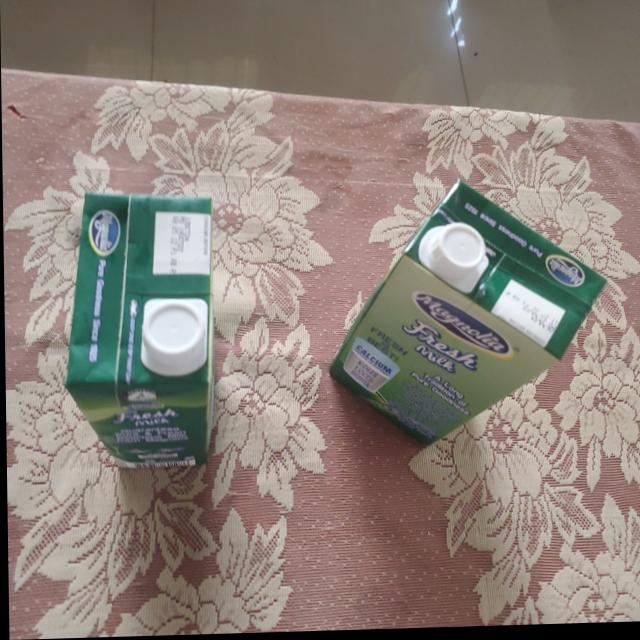milk: (325, 176, 608, 453), (64, 188, 217, 476)
